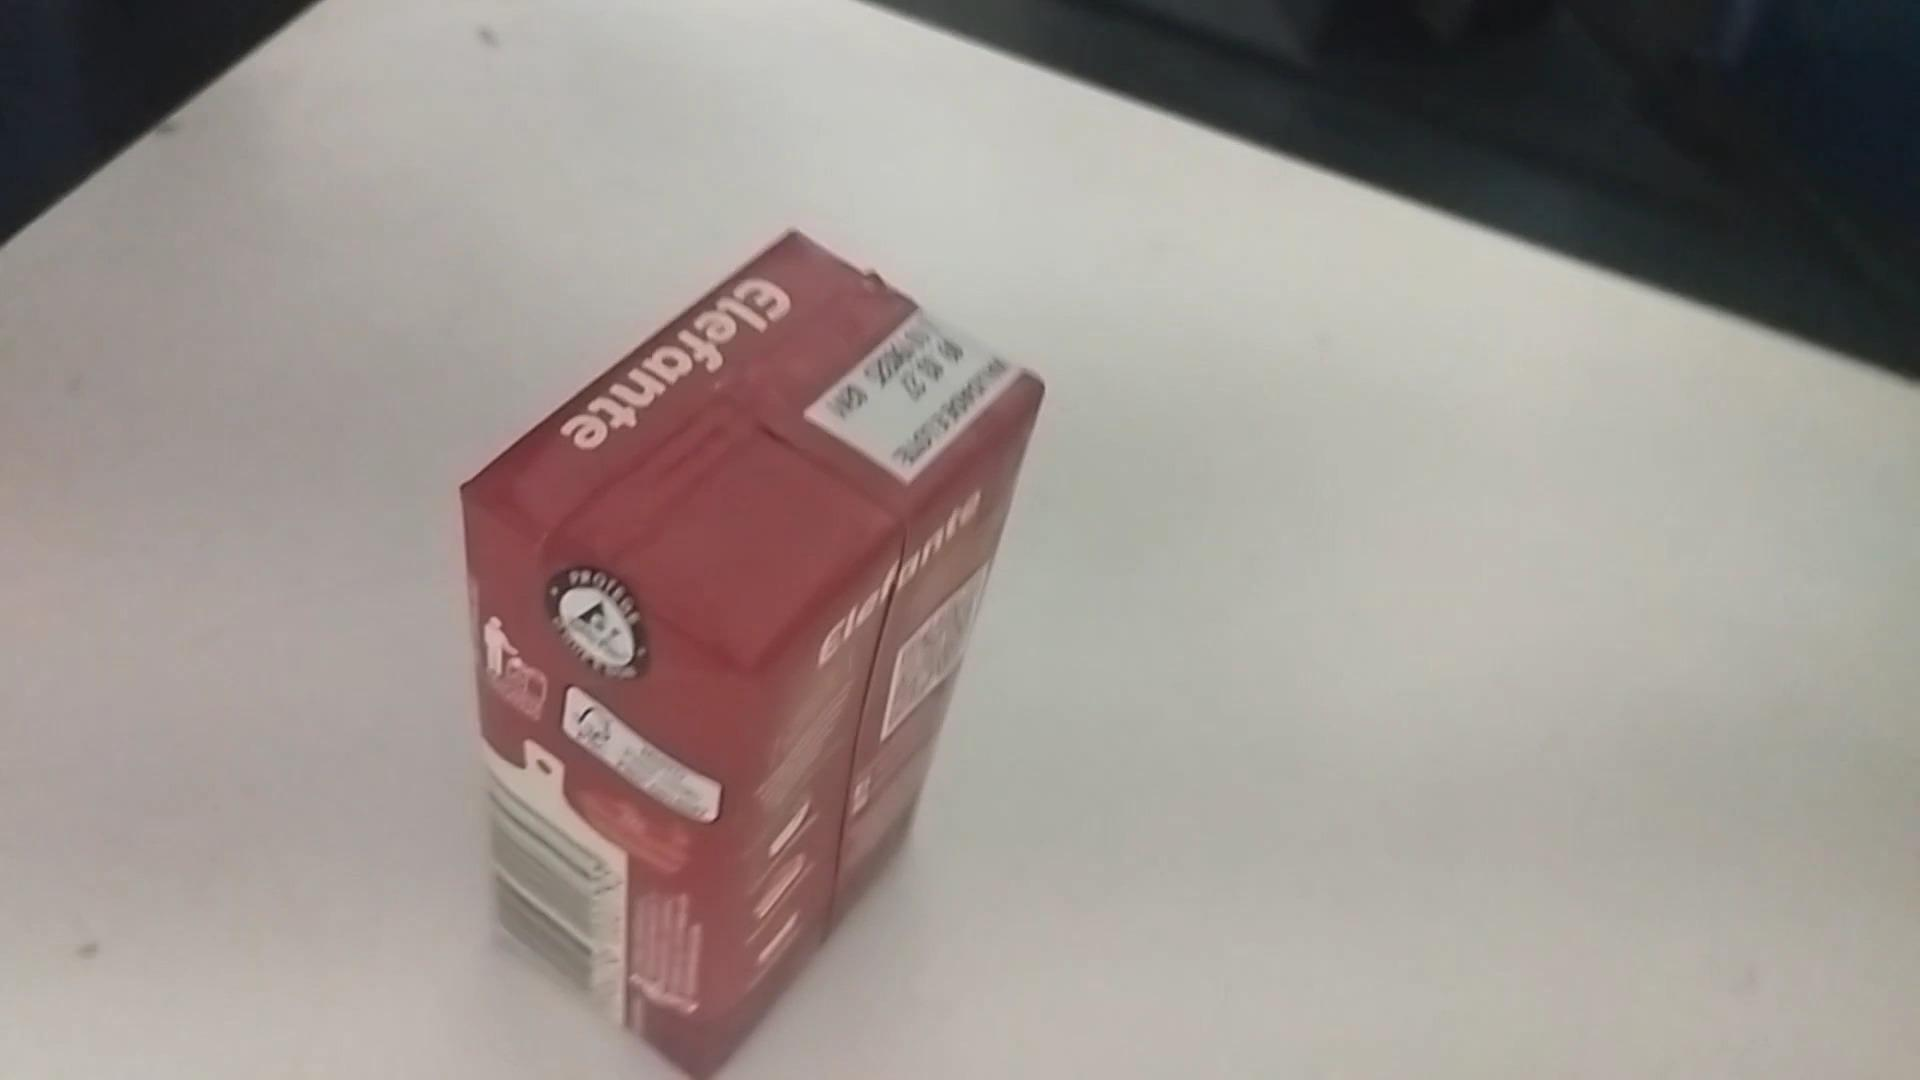tomate: (452, 224, 1059, 1073)
